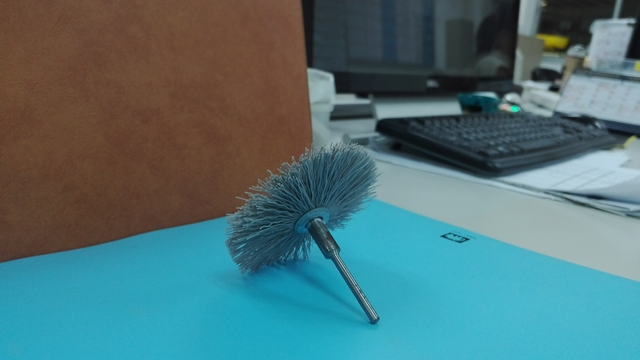TOOL: (214, 130, 393, 295)
